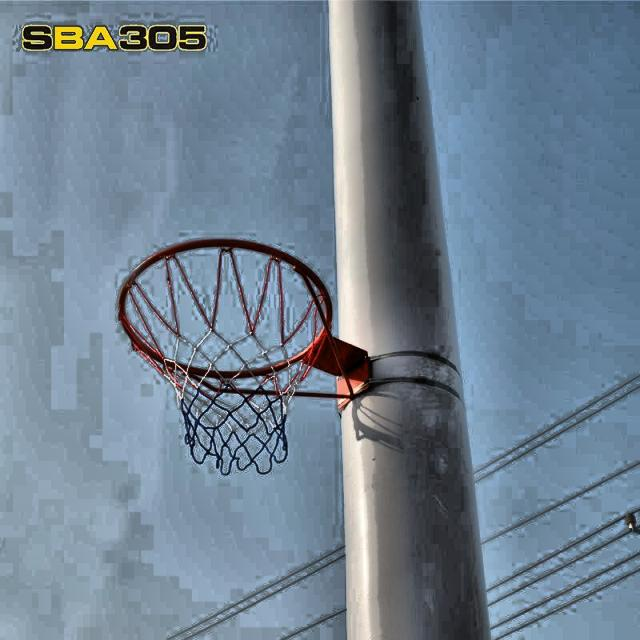rim: (120, 238, 334, 476)
